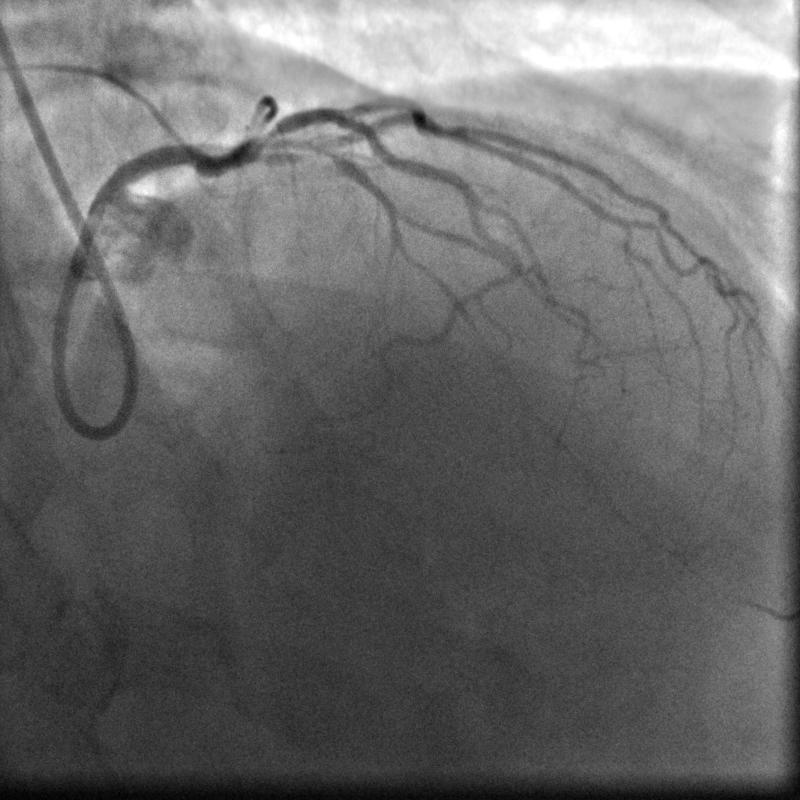Stenosis: (256, 120, 285, 150)
